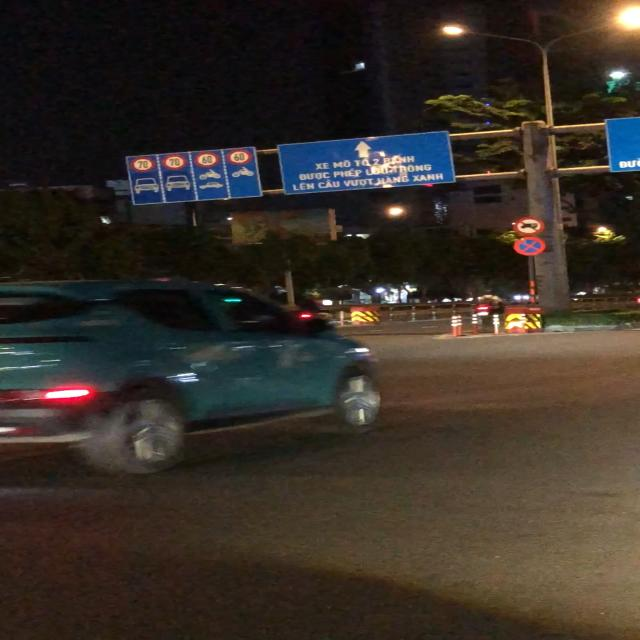Bien bao cam dung xe va do xe: (512, 236, 550, 256)
Bien bao cam xe oto tai: (511, 215, 545, 236)
Bien bao toc do toi da cho phep: (160, 154, 189, 171), (226, 149, 255, 165), (128, 156, 157, 172), (192, 152, 222, 167)
